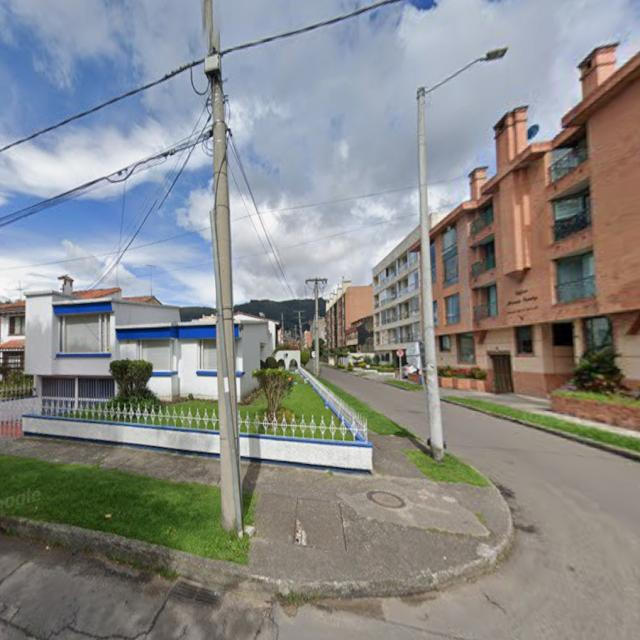fachada: (431, 45, 639, 395), (26, 277, 217, 401), (373, 228, 421, 361), (325, 280, 372, 350), (0, 301, 25, 380), (347, 316, 373, 352)
poste: (418, 48, 507, 461), (205, 25, 242, 535), (418, 88, 443, 461), (306, 278, 327, 375), (315, 281, 319, 376)
